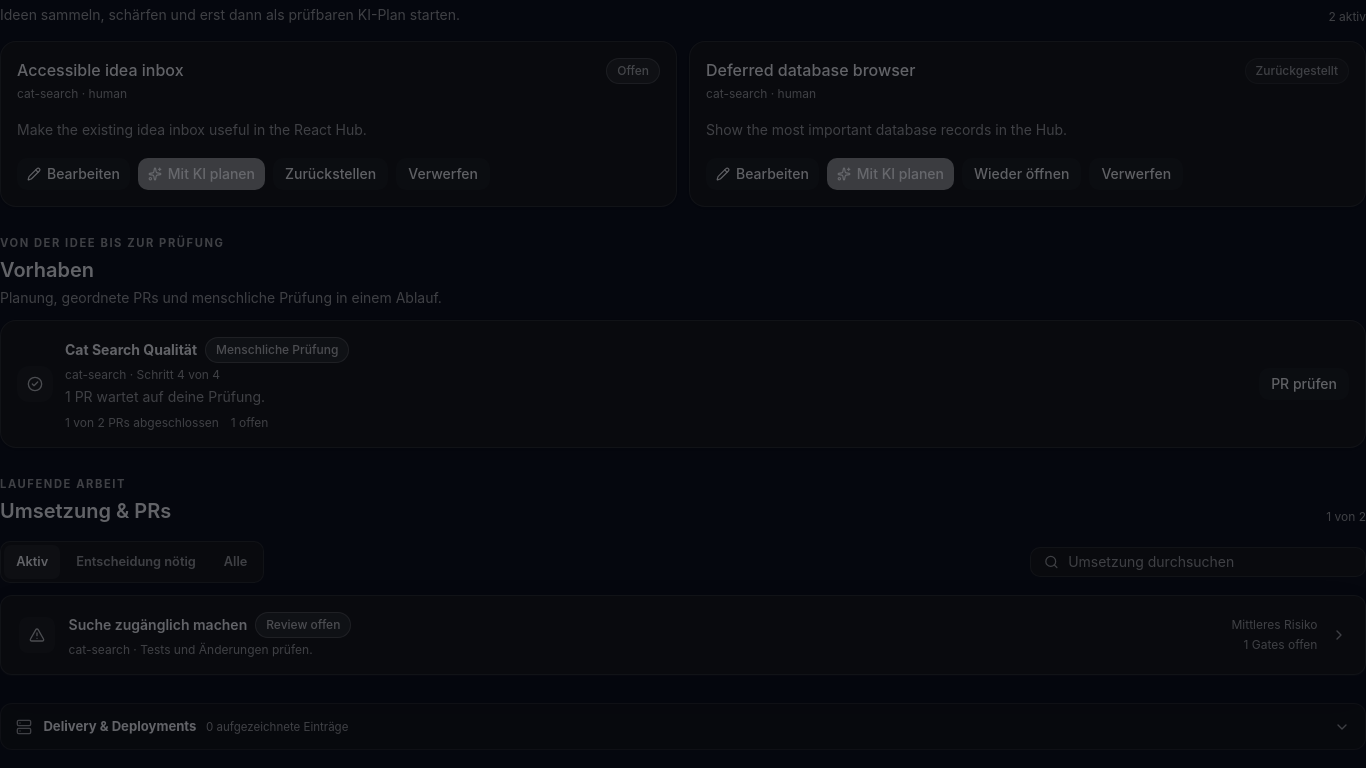
AutomationPage › opens the waiting PR directly from its endeavor
This screenshot has width=1366, height=768.
(page scrolled)
What coordinates should you click on to do the following:
click the button "PR prüfen"
I would click on:
 (1304, 384)
Its box is x1=1259 y1=368 x2=1349 y2=400.
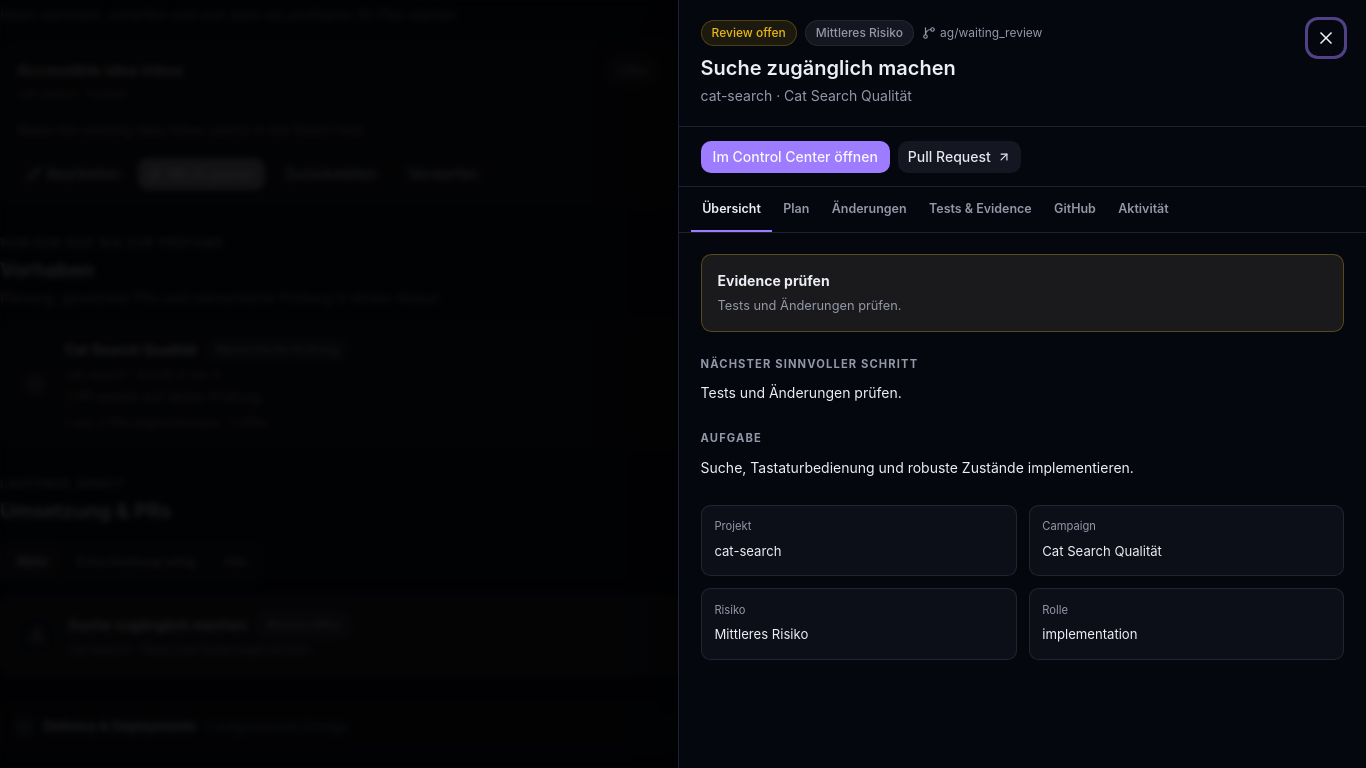
Now the dialog "Suche zugänglich machen" is shown, box x1=678 y1=0 x2=1365 y2=767
